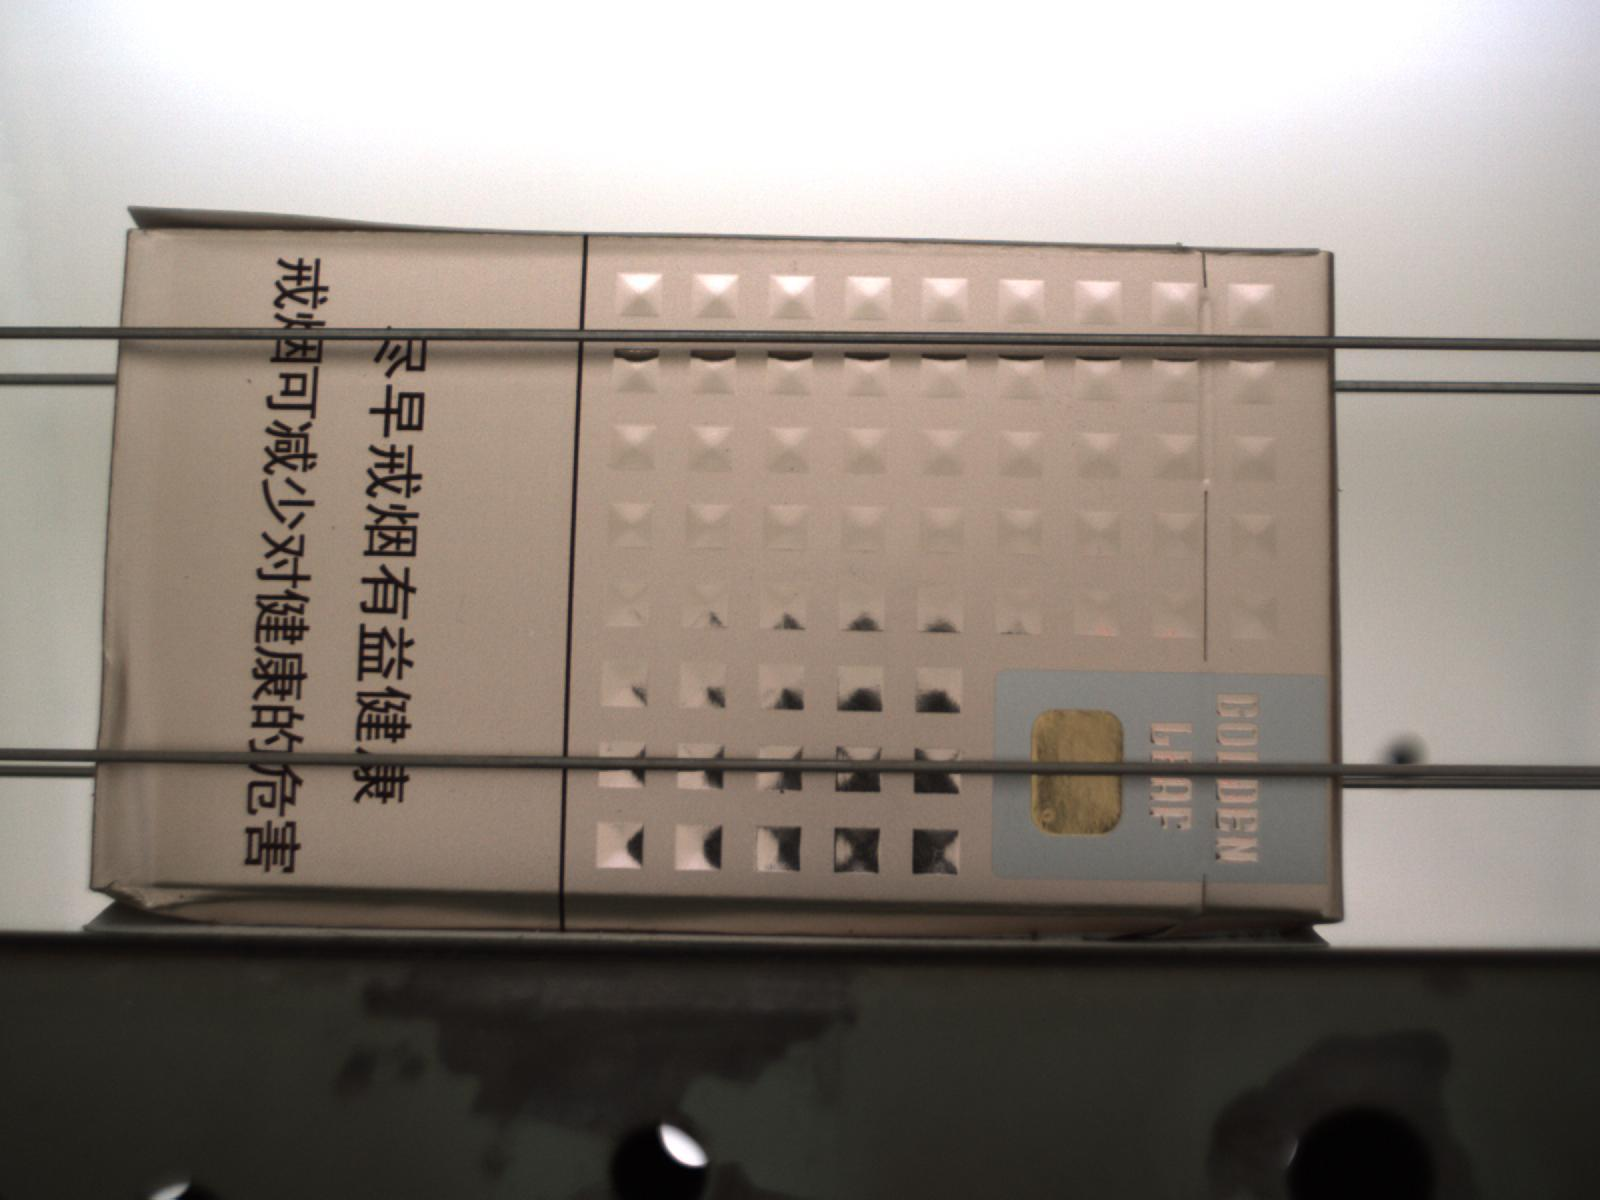dirtySpot: (244, 376, 256, 388), (329, 522, 340, 533)
outerFold_upper_01: (123, 203, 484, 238)
